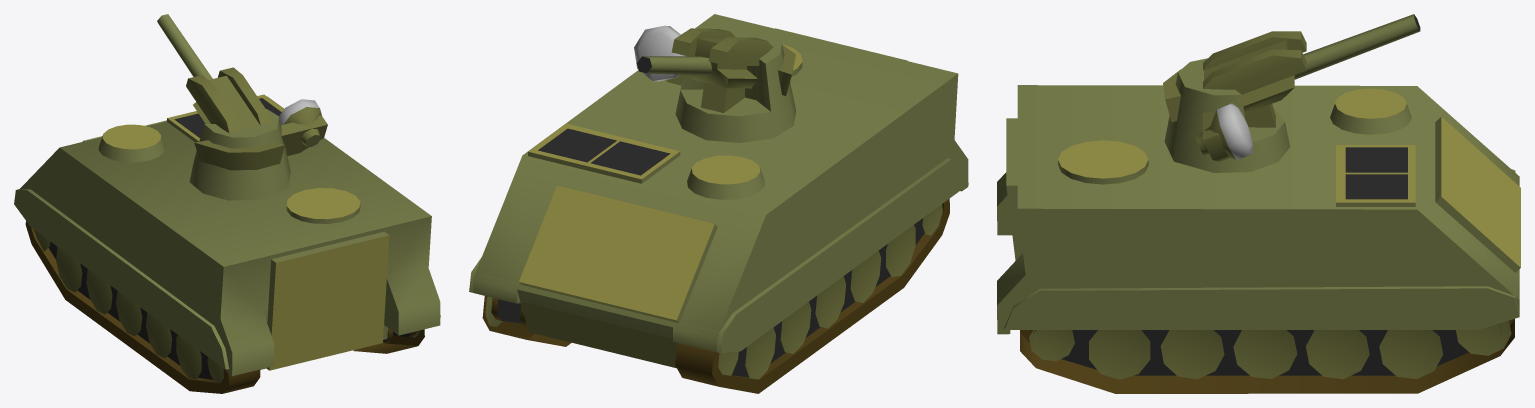
The picture shows the model from 3 angles, left to right: view 1: azimuth 30°, elevation 25°; view 2: azimuth 150°, elevation 25°; view 3: azimuth 270°, elevation 25°; orthographic projection. The views are drawn at different scales.
Parts seen in each view (by area): view 1: hull.002, barrel, m163_turret.002; view 2: hull.002, m163_turret.002, barrel; view 3: hull.002, barrel, m163_turret.002.
Boxes of the visible parts, x1=… form: hull.002: x1=14, y1=94, x2=440, y2=393; barrel: x1=157, y1=14, x2=327, y2=155; m163_turret.002: x1=189, y1=109, x2=290, y2=200; hull.002: x1=469, y1=14, x2=968, y2=393; m163_turret.002: x1=675, y1=29, x2=796, y2=142; barrel: x1=634, y1=25, x2=773, y2=88; hull.002: x1=997, y1=85, x2=1520, y2=393; barrel: x1=1196, y1=14, x2=1420, y2=161; m163_turret.002: x1=1163, y1=58, x2=1290, y2=172.
Size of the model in its own units: 0.5774 by 0.6736 by 1.
